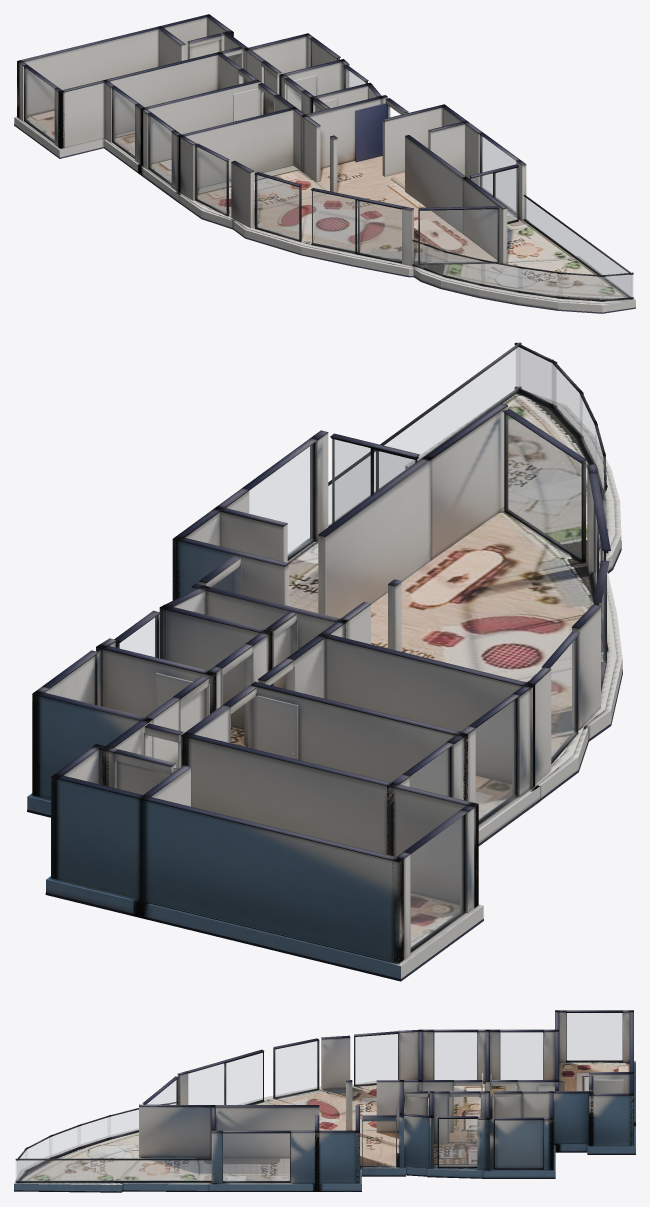
3 renders of one model, top to bottom at view 1: azimuth 30°, elevation 25°; view 2: azimuth 150°, elevation 25°; view 3: azimuth 270°, elevation 25°, orthographic. The views are drawn at different scales.
Visible parts, largest first — view 1: plan, glass5_m, glass6_m, railg0_m, glass4_m, glass3_m, glass7_m, glass0_m, glass8_m, glass1_m, glass2_m, railg2_m (+5 smaller); view 2: plan, railg0_m, glass6_m, glass0_m, glass7_m, glass2_m, glass8_m, glass3_m, railg1_m, railg2_m, glass1_m, glass10_m; view 3: plan, railg0_m, glass7_m, glass5_m, glass0_m, glass9_m, glass1_m, glass2_m, glass4_m, glass3_m, glass10_m, railg4_m (+4 smaller).
Part boxes in pixels (x1,y1,x2,y2): plan: (14,14,635,313); glass5_m: (312,191,401,261); glass6_m: (420,209,497,262); railg0_m: (524,197,632,297); glass4_m: (257,175,298,239); glass3_m: (196,147,226,213); glass7_m: (481,136,515,212); glass0_m: (25,68,54,140); glass8_m: (470,168,517,221); glass1_m: (113,89,134,156); glass2_m: (150,116,171,182); railg2_m: (558,274,604,299); plan: (27,342,622,981); railg0_m: (328,347,519,526); glass6_m: (507,415,581,557); glass0_m: (411,816,463,948); glass7_m: (249,444,312,556); glass2_m: (476,700,515,820); glass8_m: (332,439,417,523); glass3_m: (550,639,575,758); railg1_m: (516,347,555,405); railg2_m: (552,363,581,435); glass1_m: (410,748,449,796); glass10_m: (120,617,156,656); plan: (14,1010,635,1192); railg0_m: (16,1160,211,1180); glass7_m: (223,1133,289,1180); glass5_m: (188,1053,262,1104); glass0_m: (567,1013,622,1060); glass9_m: (495,1121,542,1167); glass1_m: (500,1032,542,1079); glass2_m: (434,1032,476,1079); glass4_m: (275,1041,317,1096); glass3_m: (355,1034,397,1084); glass10_m: (439,1119,476,1166); railg4_m: (78,1117,110,1146).
Size of the model in its own units: 11.91 by 2.62 by 25.15.
2 materials, 1 textured.
